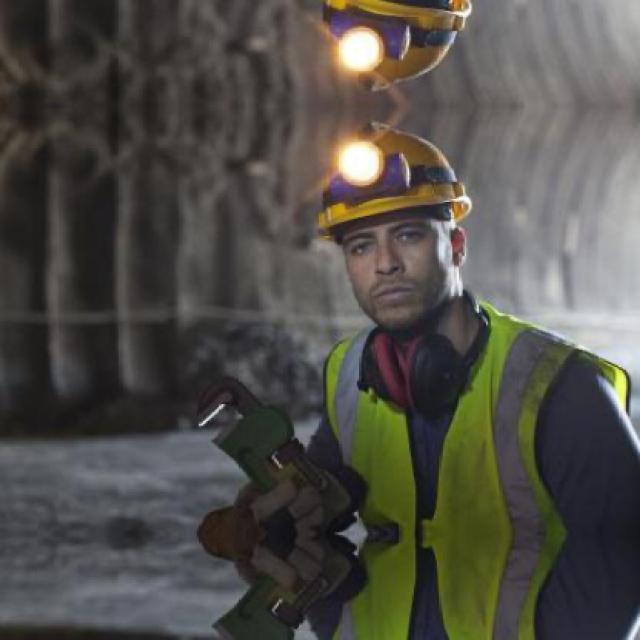helmet: (298, 119, 482, 338), (299, 0, 483, 96)
